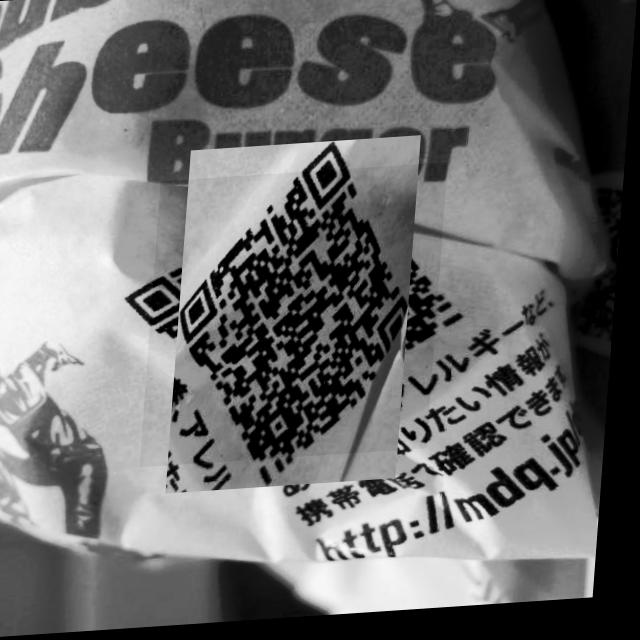qr_code: (147, 168, 451, 469)
